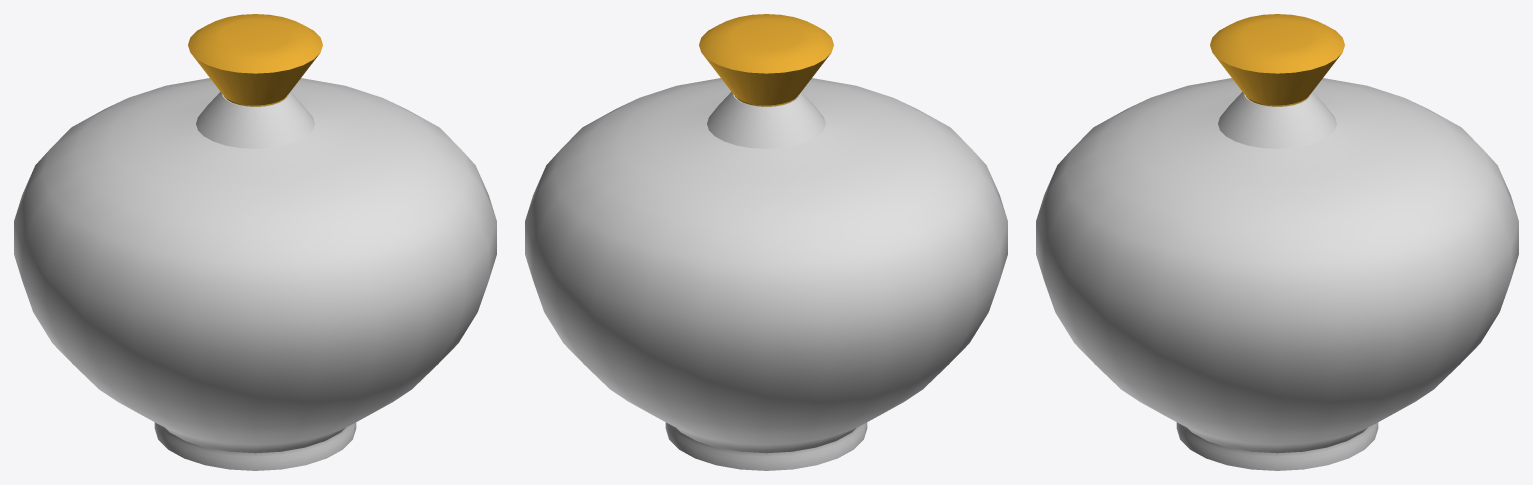
File: flask_urn.fbx
3 views of the same model, side by side, from view 1: azimuth 30°, elevation 25°; view 2: azimuth 150°, elevation 25°; view 3: azimuth 270°, elevation 25° (orthographic).
Visible parts, largest first — view 1: Body.006; view 2: Body.006; view 3: Body.006.
Part boxes in pixels (box(x1,y1,x2,y2)): Body.006: box(14, 14, 496, 470); Body.006: box(525, 14, 1007, 470); Body.006: box(1036, 14, 1518, 470).
Size of the model in its own units: 42.48 by 38.16 by 42.48.
